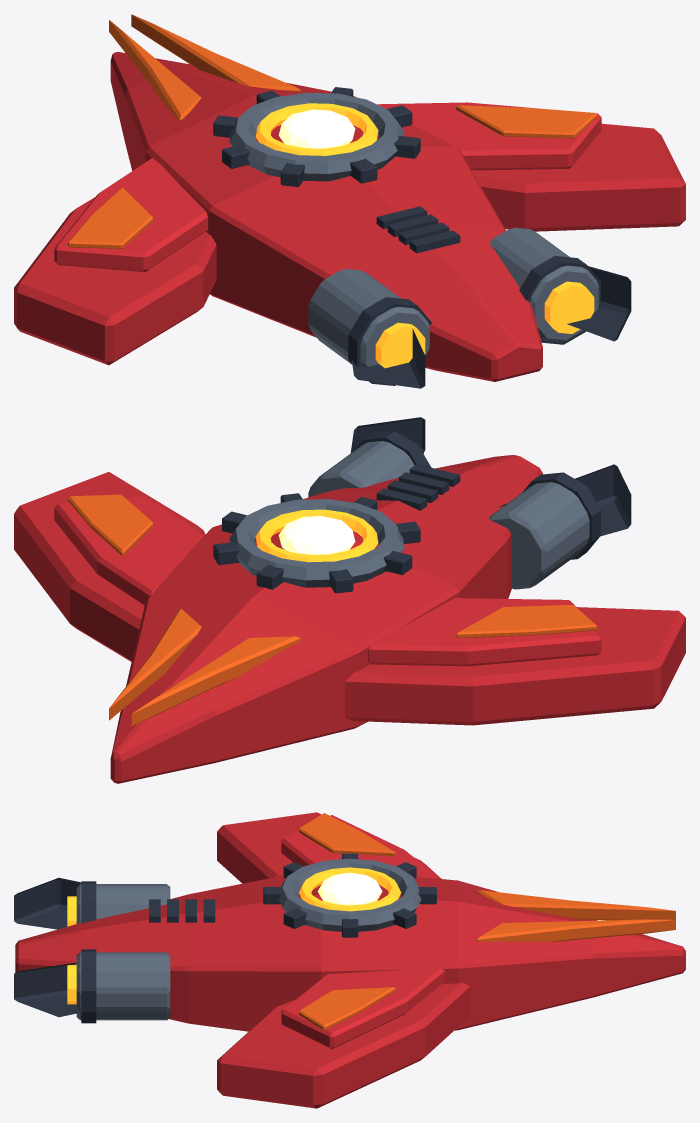
Rendered from basic_enemy.glb.
The picture shows the model from 3 angles, top to bottom: view 1: azimuth 30°, elevation 25°; view 2: azimuth 150°, elevation 25°; view 3: azimuth 270°, elevation 25°; orthographic projection. The views are drawn at different scales.
Parts seen in each view (by area): view 1: basic_enemy__Redjack_Hull, basic_enemy__Redjack_Gunmetal, basic_enemy__Redjack_Armor, basic_enemy__Redjack_Void, basic_enemy__Redjack_Accent, basic_enemy__Redjack_Energy, basic_enemy__Redjack_HotCore; view 2: basic_enemy__Redjack_Hull, basic_enemy__Redjack_Gunmetal, basic_enemy__Redjack_Armor, basic_enemy__Redjack_Accent, basic_enemy__Redjack_Void, basic_enemy__Redjack_Energy, basic_enemy__Redjack_HotCore; view 3: basic_enemy__Redjack_Hull, basic_enemy__Redjack_Gunmetal, basic_enemy__Redjack_Accent, basic_enemy__Redjack_Void, basic_enemy__Redjack_Armor, basic_enemy__Redjack_Energy, basic_enemy__Redjack_HotCore.
Boxes of the visible parts, x1,y1,x2,y2 form: basic_enemy__Redjack_Hull: [14, 52, 685, 381]; basic_enemy__Redjack_Gunmetal: [229, 92, 599, 366]; basic_enemy__Redjack_Armor: [54, 102, 601, 272]; basic_enemy__Redjack_Void: [213, 87, 631, 388]; basic_enemy__Redjack_Accent: [68, 14, 597, 248]; basic_enemy__Redjack_Energy: [255, 103, 594, 368]; basic_enemy__Redjack_HotCore: [278, 109, 355, 148]; basic_enemy__Redjack_Hull: [14, 455, 685, 783]; basic_enemy__Redjack_Gunmetal: [229, 441, 589, 589]; basic_enemy__Redjack_Armor: [54, 496, 601, 666]; basic_enemy__Redjack_Accent: [68, 494, 597, 725]; basic_enemy__Redjack_Void: [213, 417, 631, 593]; basic_enemy__Redjack_Energy: [255, 509, 378, 562]; basic_enemy__Redjack_HotCore: [278, 516, 355, 554]; basic_enemy__Redjack_Hull: [15, 812, 685, 1108]; basic_enemy__Redjack_Gunmetal: [76, 858, 421, 1020]; basic_enemy__Redjack_Accent: [299, 813, 675, 1030]; basic_enemy__Redjack_Void: [14, 853, 436, 1023]; basic_enemy__Redjack_Armor: [281, 815, 444, 1049]; basic_enemy__Redjack_Energy: [67, 867, 401, 1004]; basic_enemy__Redjack_HotCore: [317, 872, 382, 905].
Bounding box in the file's own units: 4.73 × 0.9702 × 5.16.
